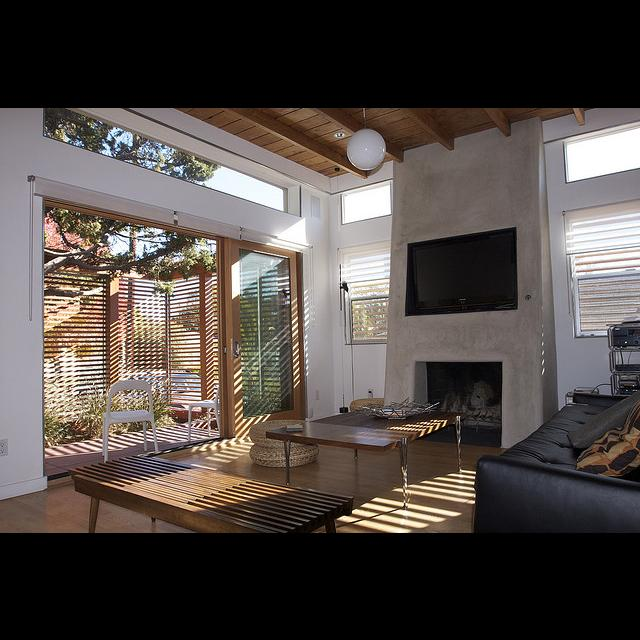Flat-Panel-TV: (404, 230, 516, 314)
